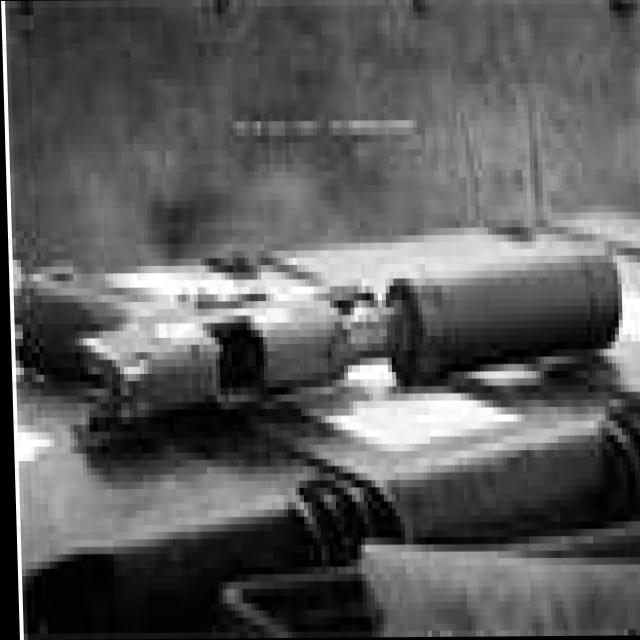handgun: (13, 212, 630, 431)
